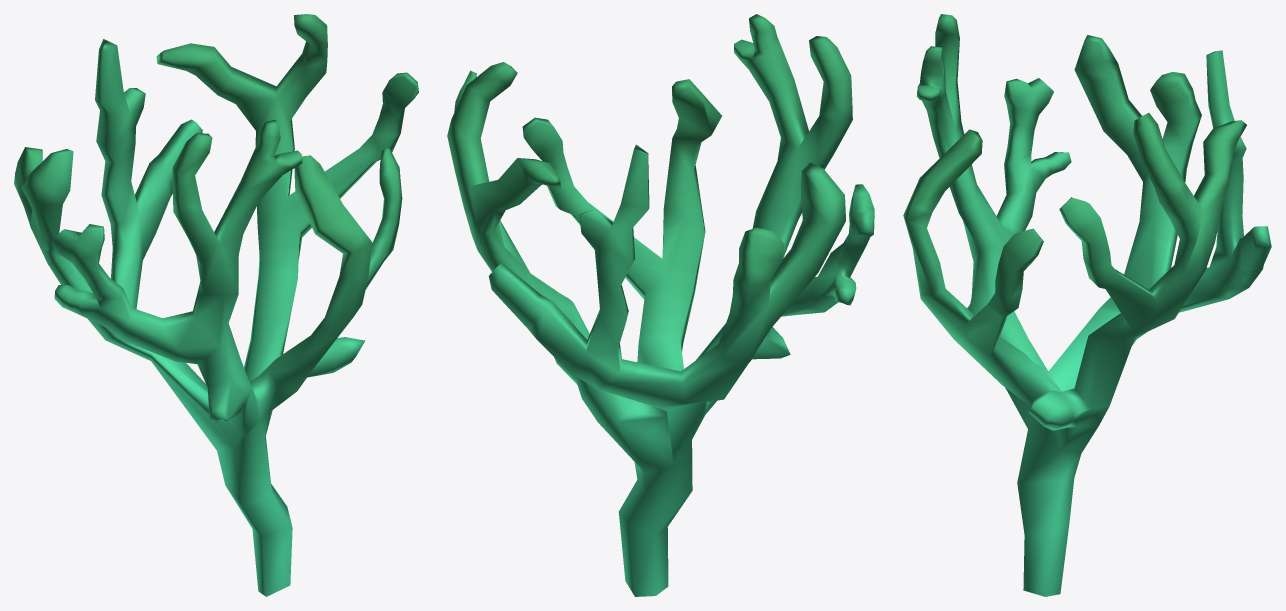
Rendered from CoralNC.fbx.
3 views of the same model, side by side, from view 1: azimuth 30°, elevation 25°; view 2: azimuth 150°, elevation 25°; view 3: azimuth 270°, elevation 25° (orthographic). The views are drawn at different scales.
Parts seen in each view (by area): view 1: CoralNC; view 2: CoralNC; view 3: CoralNC.
Boxes of the visible parts, x1,y1,x2,y2 form: CoralNC: (14, 14, 418, 596); CoralNC: (447, 14, 874, 596); CoralNC: (903, 14, 1271, 596).
Bounding box in the file's own units: 61.11 × 80.05 × 51.27.
1 material, 1 textured.
